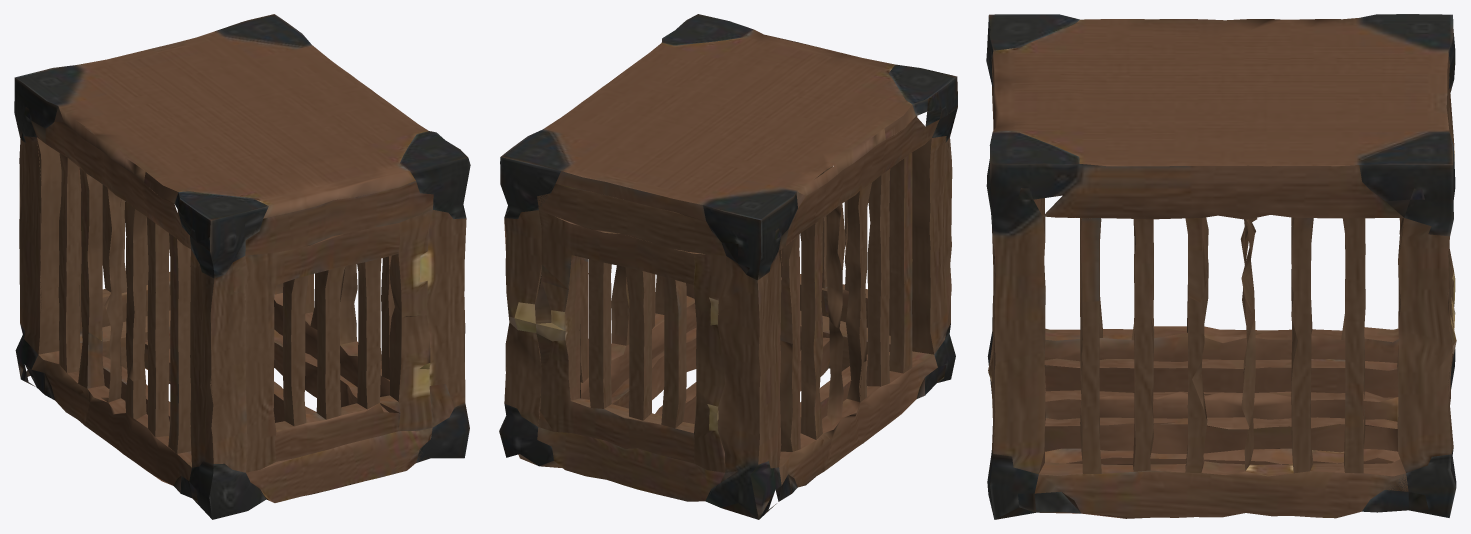
Rendered from poulailler.glb.
The picture shows the model from 3 angles, left to right: view 1: azimuth 30°, elevation 25°; view 2: azimuth 150°, elevation 25°; view 3: azimuth 270°, elevation 25°; orthographic projection. The views are drawn at different scales.
Parts seen in each view (by area): view 1: poulailler; view 2: poulailler; view 3: poulailler.
Part boxes in pixels (x1=…): poulailler: x1=14, y1=14, x2=470, y2=519; poulailler: x1=499, y1=14, x2=957, y2=519; poulailler: x1=986, y1=14, x2=1456, y2=519.
Bounding box in the file's own units: 0.8221 × 0.9 × 1.07.
1 material, 1 textured.
